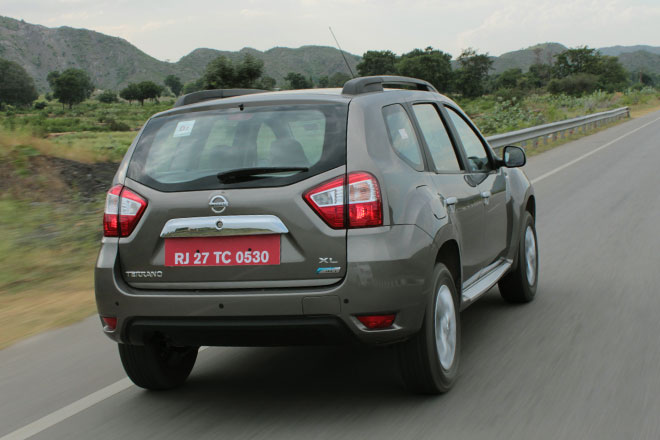number_plate: (158, 234, 292, 272)
